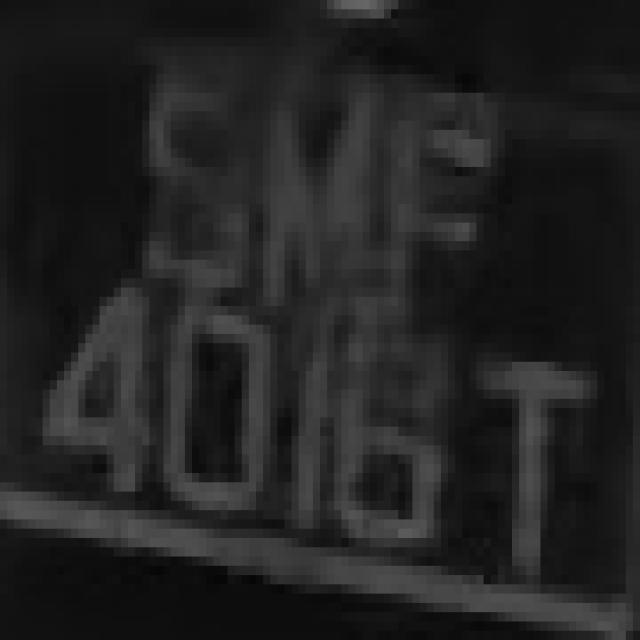0: (142, 250, 270, 556)
1: (278, 297, 348, 529)
4: (36, 232, 150, 519)
6: (356, 297, 448, 584)
F: (370, 46, 505, 297)
M: (256, 46, 370, 306)
S: (121, 56, 235, 324)
T: (462, 296, 612, 594)
